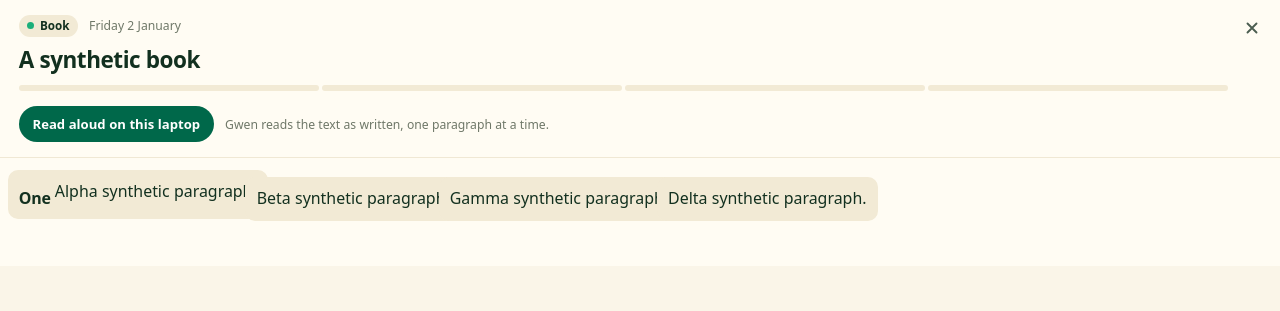
Test: ReadAloud: nothing short of ended reports heard (t4 AC2) › Stop reading: not heard, and the reader marks where you stopped
Expected: the text "Alpha synthetic paragraph." is shown, [55, 178, 257, 211]
What coordinates should you click on to do the following:
click the button "Read aloud on this laptop"
I would click on:
 (116, 124)
Its box is [19, 106, 214, 142].
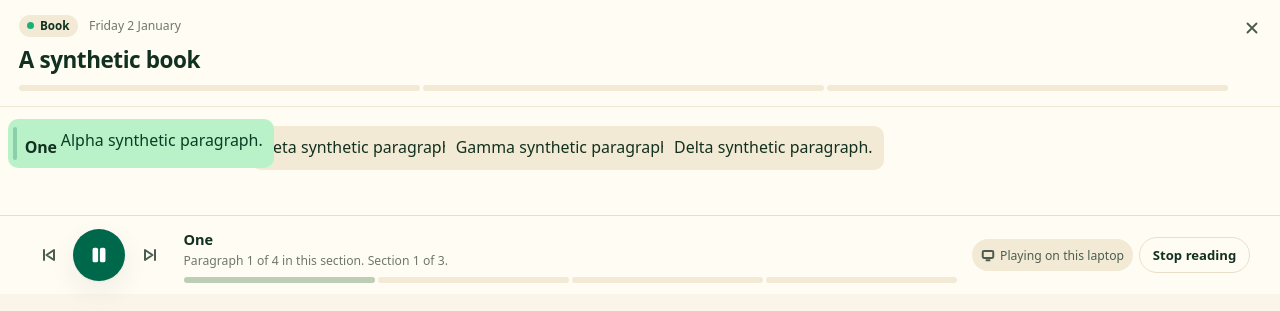
What coordinates should you click on to do the following:
click the button "Stop reading"
I would click on:
 (1195, 255)
Its box is [1139, 237, 1250, 273].
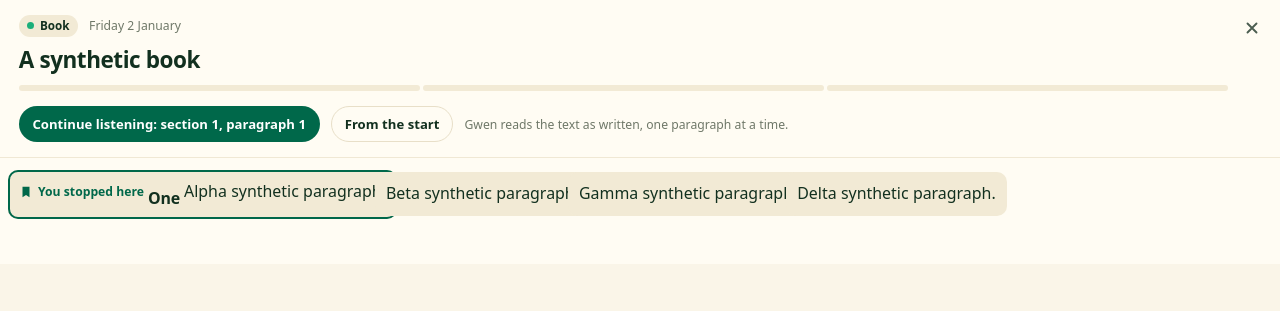
Now the text "You stopped here" is shown, box [19, 178, 144, 206]
Now the button "Continue listening: section 1, paragraph 1" is shown, box [19, 106, 320, 142]
